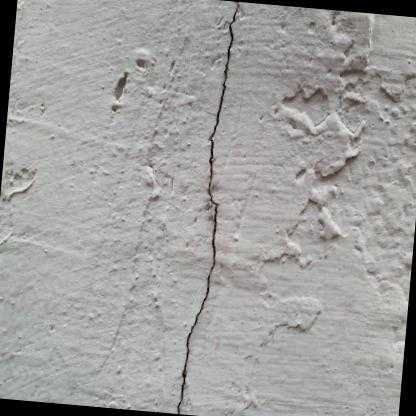crack: (177, 2, 240, 414)
